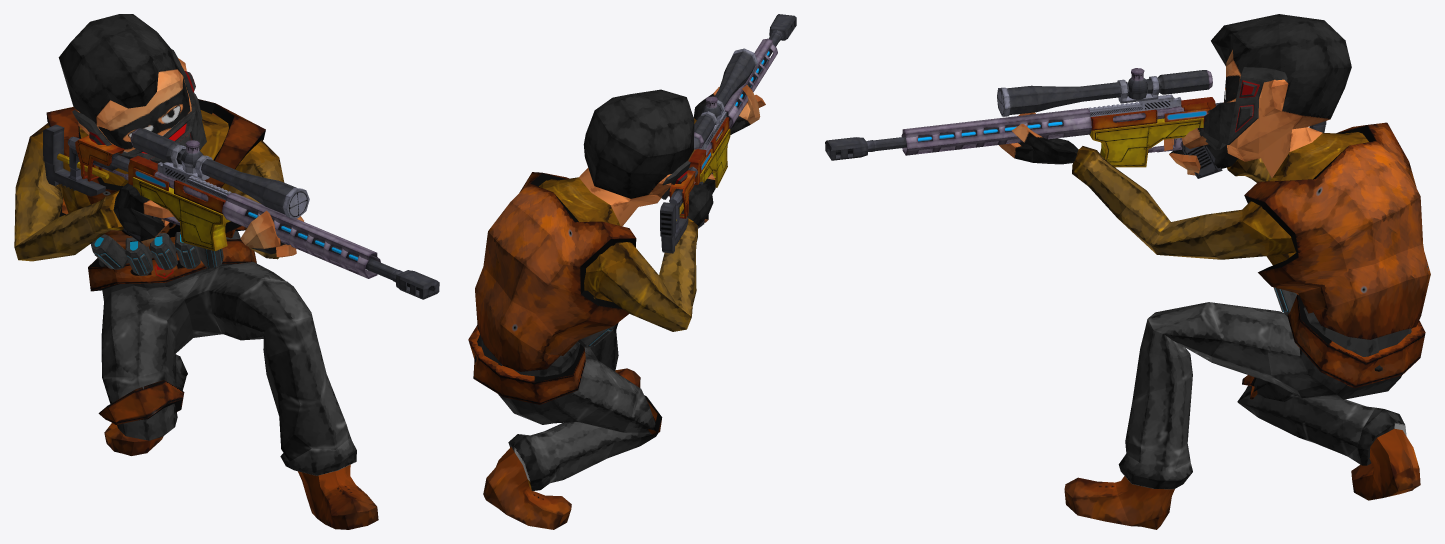
Rendered from RI_Terrorist_3V.fbx.
The picture shows the model from 3 angles, left to right: view 1: azimuth 30°, elevation 25°; view 2: azimuth 150°, elevation 25°; view 3: azimuth 270°, elevation 25°; orthographic projection. The views are drawn at different scales.
Visible parts, largest first — view 1: RI_Terrorist_3V; view 2: RI_Terrorist_3V; view 3: RI_Terrorist_3V.
Boxes of the visible parts, left/top/right/bottom form: RI_Terrorist_3V: left=14, top=14, right=439, bottom=529; RI_Terrorist_3V: left=468, top=14, right=796, bottom=529; RI_Terrorist_3V: left=825, top=14, right=1430, bottom=529.
Size of the model in its own units: 0.6705 by 1.21 by 1.49.
